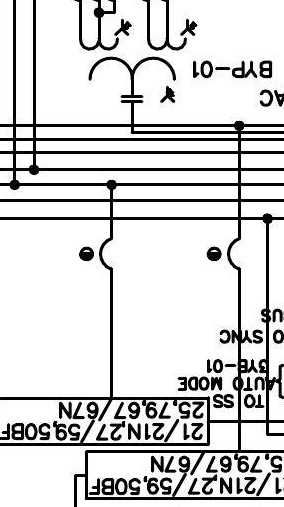115_cvt_3p: (78, 18, 198, 103)
